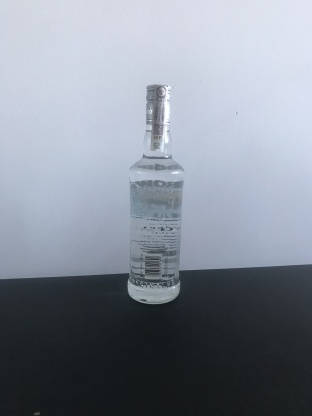nakretka: (143, 81, 174, 127)
